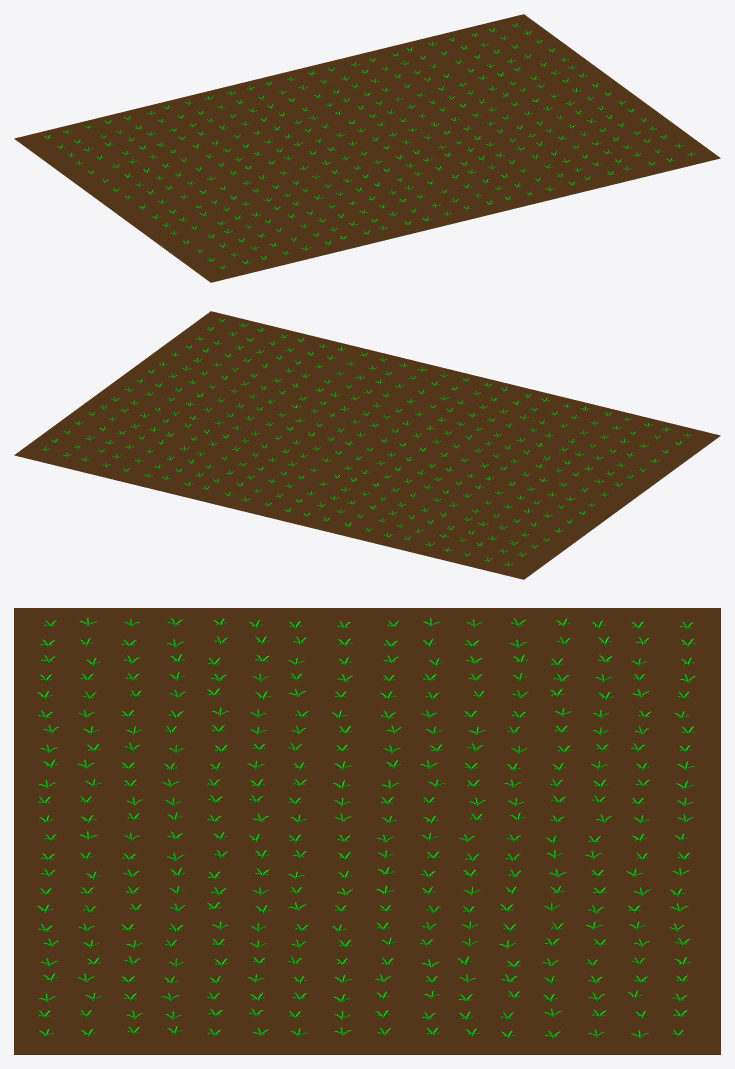
Rendered from sprout_field.fbx.
3 views of the same model, one above another, from view 1: azimuth 30°, elevation 25°; view 2: azimuth 150°, elevation 25°; view 3: azimuth 270°, elevation 25° (orthographic). The views are drawn at different scales.
Visible parts, largest first — view 1: sprouts.002; view 2: sprouts.002; view 3: sprouts.002.
Boxes of the visible parts, x1,y1,x2,y2 form: sprouts.002: [14, 14, 720, 282]; sprouts.002: [14, 311, 720, 579]; sprouts.002: [14, 608, 720, 1054].
Bounding box in the file's own units: 2517 × 1684 × 17.89.
